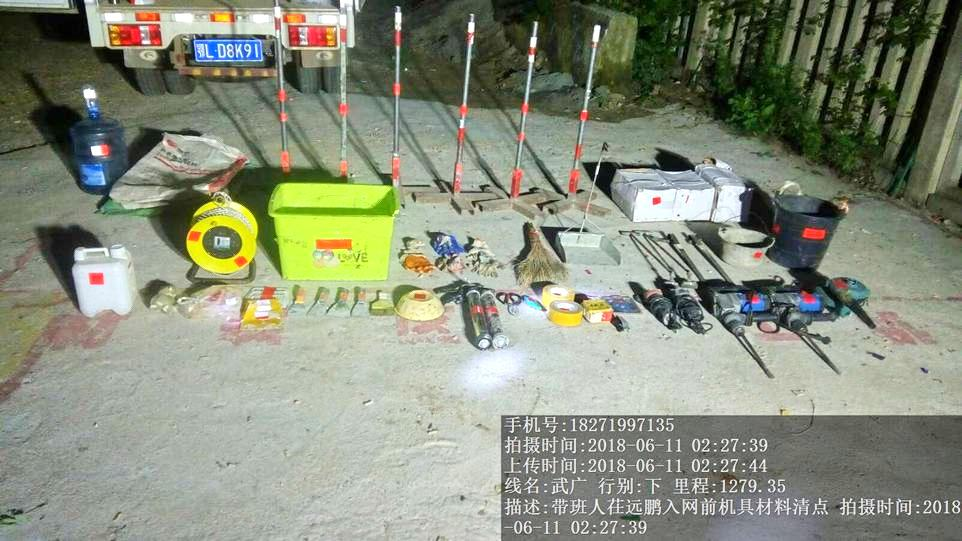DZ: (767, 285, 842, 367), (708, 285, 776, 368)
GFJ: (826, 267, 878, 333)
SB: (510, 216, 570, 288)
SNT: (720, 223, 776, 268)
T: (263, 176, 405, 281)
